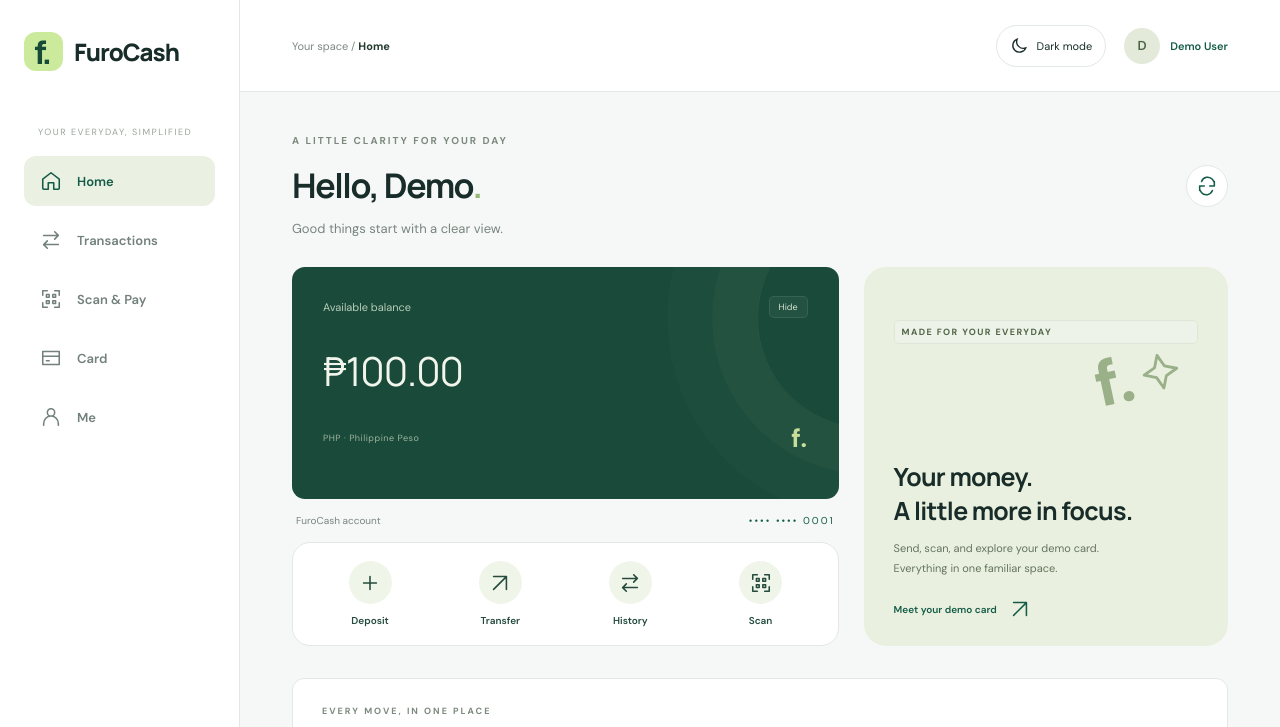
shared navigation exposes five destinations and routes to profile
Check: the heading "Hello, Demo." is shown, box [292,162,508,208]
Click the link "Me" at (51, 417), box [40,406,96,428]
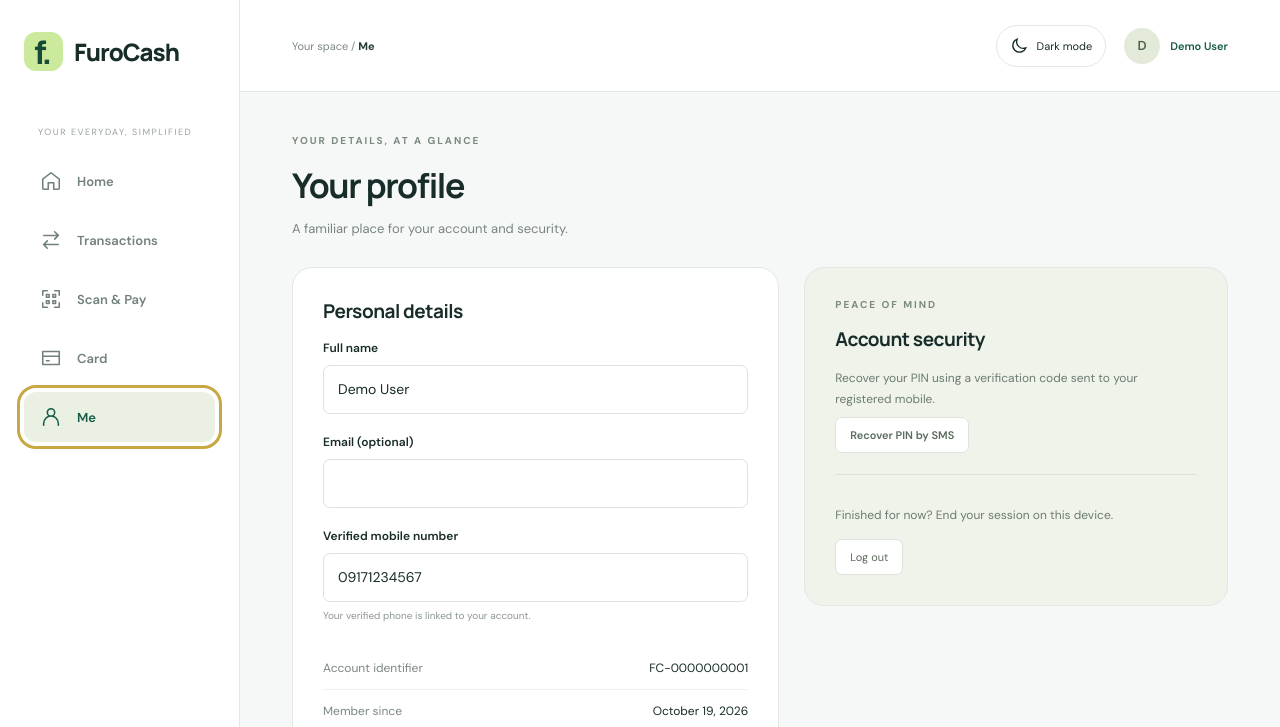
Check: the heading "Your profile" is shown, box [292,162,464,208]
Check: the field showing "Demo User" is shown, box [323,365,748,414]
